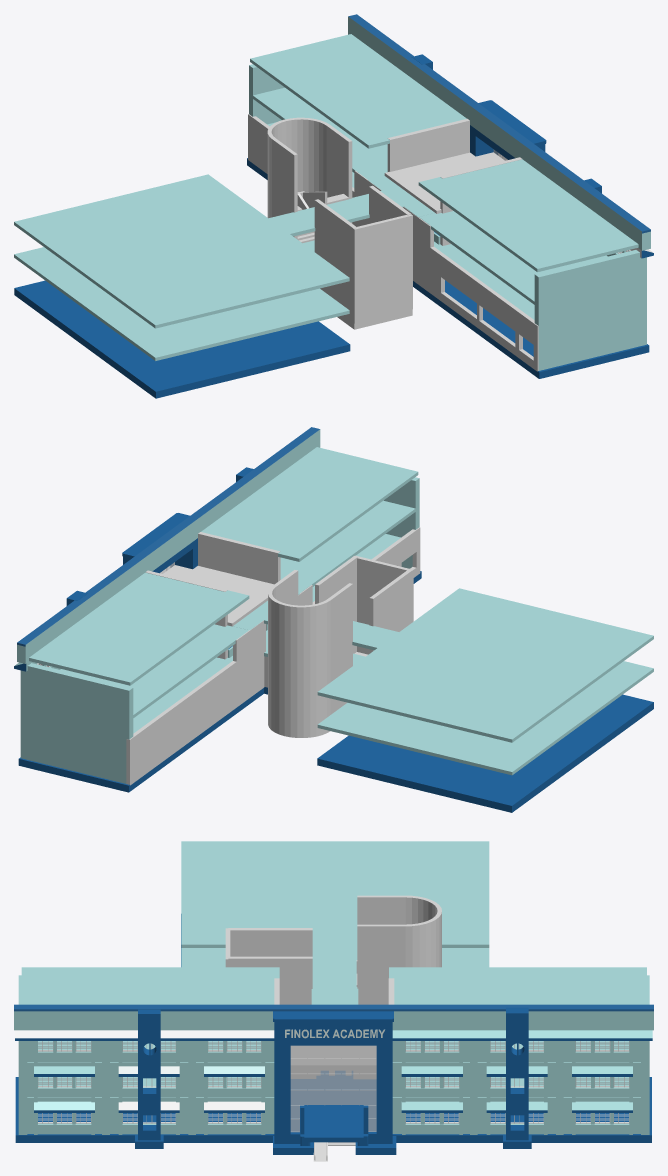
File: famt.glb
3 renders of one model, top to bottom at view 1: azimuth 30°, elevation 25°; view 2: azimuth 150°, elevation 25°; view 3: azimuth 270°, elevation 25°, orthographic. The views are drawn at different scales.
Visible parts, largest first — view 1: Cube.175, Cube.141, Cube.150, Cube.151, Cube.147, Cube.156, Cube.138, Cylinder, Cube.171, Cube.149, Cube.169, Cube.146 (+10 smaller); view 2: Cube.175, Cube.141, Cube.151, Cube.150, Cylinder, Cube.074, Cube.156, Cube.138, Cube.174, Cube.149, Cube.152, Cube.176 (+9 smaller); view 3: Cube.175, Cube.138, Cube.150, Cube.151, Cube.137, Cube.141, Cylinder, Plane, Cube.081, Cube.042, Cube.047, Cube.094 (+52 smaller).
Part boxes in pixels (x1,y1,x2,y2): Cube.175: [14, 174, 434, 328]; Cube.141: [14, 158, 649, 398]; Cube.150: [418, 159, 638, 272]; Cube.151: [250, 34, 466, 148]; Cube.147: [534, 250, 646, 370]; Cube.156: [14, 232, 440, 360]; Cube.138: [348, 14, 650, 250]; Cylinder: [267, 117, 352, 239]; Cube.171: [352, 214, 412, 323]; Cube.149: [419, 211, 607, 306]; Cube.169: [413, 249, 538, 371]; Cube.146: [387, 118, 469, 171]; Cube.175: [233, 588, 653, 742]; Cube.141: [28, 571, 653, 812]; Cube.151: [29, 572, 249, 685]; Cube.150: [201, 447, 418, 561]; Cylinder: [268, 570, 352, 737]; Cube.074: [20, 663, 133, 783]; Cube.156: [228, 624, 653, 775]; Cube.138: [17, 427, 320, 663]; Cube.174: [126, 658, 264, 785]; Cube.149: [280, 500, 416, 593]; Cube.152: [60, 624, 248, 719]; Cube.176: [126, 620, 265, 755]; Cube.175: [181, 841, 489, 1004]; Cube.138: [14, 1004, 653, 1030]; Cube.150: [21, 967, 279, 1004]; Cube.151: [389, 967, 646, 1004]; Cube.137: [273, 1011, 393, 1145]; Cube.141: [15, 914, 651, 1142]; Cylinder: [357, 895, 441, 1004]; Plane: [290, 1045, 376, 1132]; Cube.081: [506, 1007, 528, 1140]; Cube.042: [138, 1009, 160, 1140]; Cube.047: [392, 1030, 652, 1040]; Cube.094: [15, 1030, 274, 1040].
Bounding box in the file's own units: 183 × 46.65 × 190.
